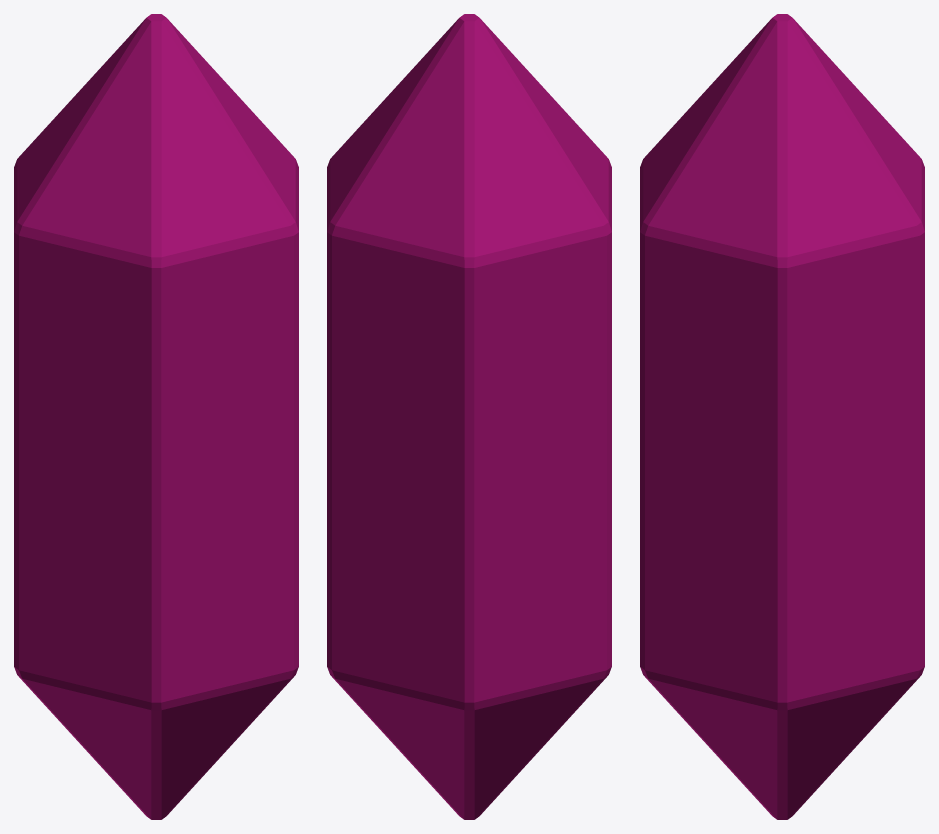
The model's file is crystal2.obj.
The picture shows the model from 3 angles, left to right: view 1: azimuth 30°, elevation 25°; view 2: azimuth 150°, elevation 25°; view 3: azimuth 270°, elevation 25°; orthographic projection.
Parts seen in each view (by area): view 1: Crystal2_Cylinder; view 2: Crystal2_Cylinder; view 3: Crystal2_Cylinder.
Boxes of the visible parts, x1=… form: Crystal2_Cylinder: x1=14, y1=14, x2=298, y2=819; Crystal2_Cylinder: x1=327, y1=14, x2=611, y2=819; Crystal2_Cylinder: x1=640, y1=14, x2=924, y2=819.
Size of the model in its own units: 0.3287 by 0.8957 by 0.2896.
